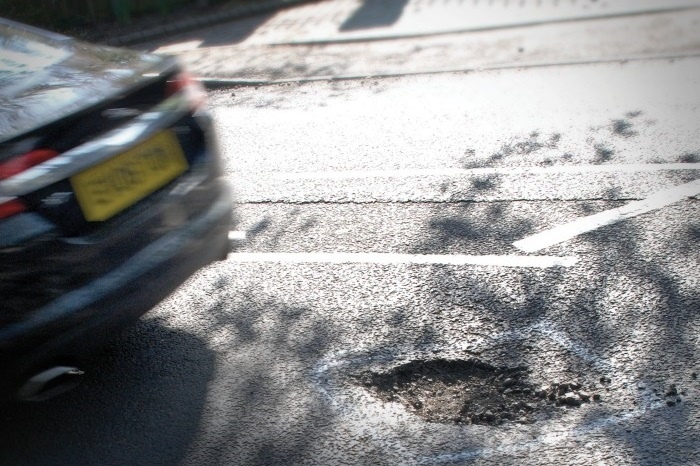pothole: (364, 339, 601, 439)
